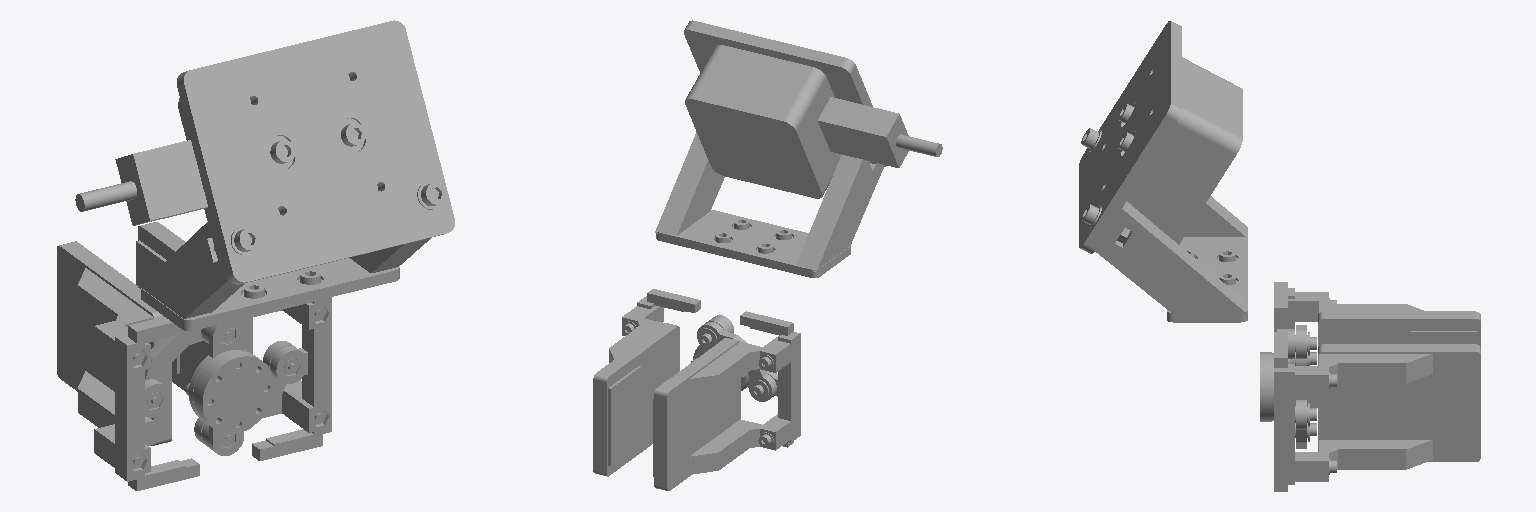
robot.urdf — low_cost_robot_d405_low_profile:
<?xml version='1.0' encoding='utf-8'?>
<robot name="low_cost_robot_d405_low_profile">
  <!--Geometric model; mass, inertia and actuator ratings are not inferred from STEP.-->
  <link name="base_link">
    <visual>
      <origin xyz="0 0 0" rpy="0 0 0" />
      <geometry>
        <mesh filename="assets/base_link.stl" />
      </geometry>
      <material name="base_link_material">
        <color rgba="0.69999999999999996 0.69999999999999996 0.69999999999999996 1" />
      </material>
    </visual>
    <collision>
      <origin xyz="0 0 0" rpy="0 0 0" />
      <geometry>
        <mesh filename="assets/base_link.stl" />
      </geometry>
    </collision>
  </link>
  <link name="shoulder_yaw">
    <visual>
      <origin xyz="0 0 -0.02" rpy="0 0 0" />
      <geometry>
        <mesh filename="assets/shoulder_yaw.stl" />
      </geometry>
      <material name="shoulder_yaw_material">
        <color rgba="0.69999999999999996 0.69999999999999996 0.69999999999999996 1" />
      </material>
    </visual>
    <collision>
      <origin xyz="0 0 -0.02" rpy="0 0 0" />
      <geometry>
        <mesh filename="assets/shoulder_yaw.stl" />
      </geometry>
    </collision>
  </link>
  <link name="upper_arm">
    <visual>
      <origin xyz="0.00020000000000000001 0 -0.056299999999999996" rpy="0 0 0" />
      <geometry>
        <mesh filename="assets/upper_arm.stl" />
      </geometry>
      <material name="upper_arm_material">
        <color rgba="0.69999999999999996 0.69999999999999996 0.69999999999999996 1" />
      </material>
    </visual>
    <collision>
      <origin xyz="0.00020000000000000001 0 -0.056299999999999996" rpy="0 0 0" />
      <geometry>
        <mesh filename="assets/upper_arm.stl" />
      </geometry>
    </collision>
  </link>
  <link name="forearm">
    <visual>
      <origin xyz="0.00020000000000000001 -0.014800000000000001 -0.1646" rpy="0 0 0" />
      <geometry>
        <mesh filename="assets/forearm.stl" />
      </geometry>
      <material name="forearm_material">
        <color rgba="0.69999999999999996 0.69999999999999996 0.69999999999999996 1" />
      </material>
    </visual>
    <collision>
      <origin xyz="0.00020000000000000001 -0.014800000000000001 -0.1646" rpy="0 0 0" />
      <geometry>
        <mesh filename="assets/forearm.stl" />
      </geometry>
    </collision>
  </link>
  <link name="wrist">
    <visual>
      <origin xyz="0.00020000000000000001 -0.10490000000000001 -0.1646" rpy="0 0 0" />
      <geometry>
        <mesh filename="assets/wrist.stl" />
      </geometry>
      <material name="wrist_material">
        <color rgba="0.69999999999999996 0.69999999999999996 0.69999999999999996 1" />
      </material>
    </visual>
    <collision>
      <origin xyz="0.00020000000000000001 -0.10490000000000001 -0.1646" rpy="0 0 0" />
      <geometry>
        <mesh filename="assets/wrist.stl" />
      </geometry>
    </collision>
  </link>
  <link name="gripper_crank">
    <visual>
      <origin xyz="0.00020000000000000001 -0.16490000000000002 -0.1646" rpy="0 0 0" />
      <geometry>
        <mesh filename="assets/gripper_crank.stl" />
      </geometry>
      <material name="gripper_crank_material">
        <color rgba="0.69999999999999996 0.69999999999999996 0.69999999999999996 1" />
      </material>
    </visual>
    <collision>
      <origin xyz="0.00020000000000000001 -0.16490000000000002 -0.1646" rpy="0 0 0" />
      <geometry>
        <mesh filename="assets/gripper_crank.stl" />
      </geometry>
    </collision>
  </link>
  <link name="jaw_l">
    <visual>
      <origin xyz="0.00020000000000000001 -0.16490000000000002 -0.1646" rpy="0 0 0" />
      <geometry>
        <mesh filename="assets/jaw_l.stl" />
      </geometry>
      <material name="jaw_l_material">
        <color rgba="0.69999999999999996 0.69999999999999996 0.69999999999999996 1" />
      </material>
    </visual>
    <collision>
      <origin xyz="0.00020000000000000001 -0.16490000000000002 -0.1646" rpy="0 0 0" />
      <geometry>
        <mesh filename="assets/jaw_l.stl" />
      </geometry>
    </collision>
  </link>
  <link name="jaw_r">
    <visual>
      <origin xyz="0.00020000000000000001 -0.16490000000000002 -0.1646" rpy="0 0 0" />
      <geometry>
        <mesh filename="assets/jaw_r.stl" />
      </geometry>
      <material name="jaw_r_material">
        <color rgba="0.69999999999999996 0.69999999999999996 0.69999999999999996 1" />
      </material>
    </visual>
    <collision>
      <origin xyz="0.00020000000000000001 -0.16490000000000002 -0.1646" rpy="0 0 0" />
      <geometry>
        <mesh filename="assets/jaw_r.stl" />
      </geometry>
    </collision>
  </link>
  <link name="coupler_l">
    <visual>
      <origin xyz="0.00020000000000000001 -0.16490000000000002 -0.17859999999999998" rpy="0 0 0" />
      <geometry>
        <mesh filename="assets/coupler_l.stl" />
      </geometry>
      <material name="coupler_l_material">
        <color rgba="0.69999999999999996 0.69999999999999996 0.69999999999999996 1" />
      </material>
    </visual>
    <collision>
      <origin xyz="0.00020000000000000001 -0.16490000000000002 -0.17859999999999998" rpy="0 0 0" />
      <geometry>
        <mesh filename="assets/coupler_l.stl" />
      </geometry>
    </collision>
  </link>
  <link name="coupler_r">
    <visual>
      <origin xyz="0.00020000000000000001 -0.16490000000000002 -0.15059999999999998" rpy="0 0 0" />
      <geometry>
        <mesh filename="assets/coupler_r.stl" />
      </geometry>
      <material name="coupler_r_material">
        <color rgba="0.69999999999999996 0.69999999999999996 0.69999999999999996 1" />
      </material>
    </visual>
    <collision>
      <origin xyz="0.00020000000000000001 -0.16490000000000002 -0.15059999999999998" rpy="0 0 0" />
      <geometry>
        <mesh filename="assets/coupler_r.stl" />
      </geometry>
    </collision>
  </link>
  <link name="camera_mount">
    <visual>
      <origin xyz="0.00020000000000000001 -0.16490000000000002 -0.19985" rpy="0 0 0" />
      <geometry>
        <mesh filename="assets/camera_mount.stl" />
      </geometry>
      <material name="camera_mount_material">
        <color rgba="0.69999999999999996 0.69999999999999996 0.69999999999999996 1" />
      </material>
    </visual>
    <collision>
      <origin xyz="0.00020000000000000001 -0.16490000000000002 -0.19985" rpy="0 0 0" />
      <geometry>
        <mesh filename="assets/camera_mount.stl" />
      </geometry>
    </collision>
  </link>
  <link name="camera_body">
    <visual>
      <origin xyz="0.00020000000000000001 -0.16500000000000001 -0.23499999999999999" rpy="0 0 0" />
      <geometry>
        <mesh filename="assets/camera_body.stl" />
      </geometry>
      <material name="camera_body_material">
        <color rgba="0.69999999999999996 0.69999999999999996 0.69999999999999996 1" />
      </material>
    </visual>
    <collision>
      <origin xyz="0.00020000000000000001 -0.16500000000000001 -0.23499999999999999" rpy="0 0 0" />
      <geometry>
        <mesh filename="assets/camera_body.stl" />
      </geometry>
    </collision>
  </link>
  <link name="closing_left_1" />
  <link name="closing_left_2" />
  <link name="closing_right_1" />
  <link name="closing_right_2" />
  <joint name="joint1_yaw" type="revolute">
    <parent link="base_link" />
    <child link="shoulder_yaw" />
    <origin xyz="0 0 0.02" rpy="0 0 0" />
    <axis xyz="-0 -0 -1" />
    <limit lower="-3.1415926535897931" upper="3.1415926535897931" effort="0" velocity="0" />
  </joint>
  <joint name="joint2_shoulder" type="revolute">
    <parent link="shoulder_yaw" />
    <child link="upper_arm" />
    <origin xyz="-0.00020000000000000001 0 0.036299999999999999" rpy="0 0 0" />
    <axis xyz="1 -0 -2.2204460492503131e-16" />
    <limit lower="-3.1415926535897931" upper="3.1415926535897931" effort="0" velocity="0" />
  </joint>
  <joint name="joint3_elbow" type="revolute">
    <parent link="upper_arm" />
    <child link="forearm" />
    <origin xyz="0 0.014800000000000001 0.10830000000000001" rpy="0 0 0" />
    <axis xyz="-1 -0 -2.2204460492503131e-16" />
    <limit lower="-3.1415926535897931" upper="3.1415926535897931" effort="0" velocity="0" />
  </joint>
  <joint name="joint4_wrist" type="revolute">
    <parent link="forearm" />
    <child link="wrist" />
    <origin xyz="0 0.090100000000000013 0" rpy="0 0 0" />
    <axis xyz="-1 -0 -2.2204460492503131e-16" />
    <limit lower="-1.7802358370342162" upper="2.1642082724729685" effort="0" velocity="0" />
  </joint>
  <joint name="gripper_drive" type="revolute">
    <parent link="wrist" />
    <child link="gripper_crank" />
    <origin xyz="0 0.060000000000000012 0" rpy="0 0 0" />
    <axis xyz="-0 -1 -2.2204460492503131e-16" />
    <limit lower="-0.78539816339744828" upper="1.1344640137963142" effort="0" velocity="0" />
  </joint>
  <joint name="jaw_left" type="prismatic">
    <parent link="wrist" />
    <child link="jaw_l" />
    <origin xyz="0 0.060000000000000012 0" rpy="0 0 0" />
    <axis xyz="-1 -0 -2.2204460492503131e-16" />
    <limit lower="-0.0075298725171541432" upper="0.016453980543899453" effort="0" velocity="0" />
  </joint>
  <joint name="jaw_right" type="prismatic">
    <parent link="wrist" />
    <child link="jaw_r" />
    <origin xyz="0 0.060000000000000012 0" rpy="0 0 0" />
    <axis xyz="-1 -0 -2.2204460492503131e-16" />
    <limit lower="-0.016453980543899453" upper="0.0075298725171541432" effort="0" velocity="0" />
  </joint>
  <joint name="coupler_left" type="revolute">
    <parent link="gripper_crank" />
    <child link="coupler_l" />
    <origin xyz="0 0 0.013999999999999985" rpy="0 0 0" />
    <axis xyz="-0 -1 -2.2204460492503131e-16" />
    <limit lower="-3.1415926535897931" upper="3.1415926535897931" effort="0" velocity="0" />
  </joint>
  <joint name="coupler_right" type="revolute">
    <parent link="gripper_crank" />
    <child link="coupler_r" />
    <origin xyz="0 0 -0.014000000000000012" rpy="0 0 0" />
    <axis xyz="-0 -1 -2.2204460492503131e-16" />
    <limit lower="-3.1415926535897931" upper="3.1415926535897931" effort="0" velocity="0" />
  </joint>
  <joint name="camera_mount_fixed" type="fixed">
    <parent link="wrist" />
    <child link="camera_mount" />
    <origin xyz="0 0.060000000000000012 0.035250000000000004" rpy="0 0 0" />
  </joint>
  <joint name="camera_body_fixed" type="fixed">
    <parent link="camera_mount" />
    <child link="camera_body" />
    <origin xyz="0 9.9999999999988987e-05 0.035149999999999987" rpy="0 0 0" />
  </joint>
  <joint name="closing_left_1_fixed" type="fixed">
    <parent link="coupler_l" />
    <child link="closing_left_1" />
    <origin xyz="-0.019493588689617928 0.027999999999999997 -0.013999999999999985" rpy="0 0 0" />
  </joint>
  <joint name="closing_left_2_fixed" type="fixed">
    <parent link="jaw_l" />
    <child link="closing_left_2" />
    <origin xyz="-0.019493588689617928 0.027999999999999997 0" rpy="0 0 0" />
  </joint>
  <joint name="closing_right_1_fixed" type="fixed">
    <parent link="coupler_r" />
    <child link="closing_right_1" />
    <origin xyz="0.019493588689617924 0.027999999999999997 0.014000000000000012" rpy="0 0 0" />
  </joint>
  <joint name="closing_right_2_fixed" type="fixed">
    <parent link="jaw_r" />
    <child link="closing_right_2" />
    <origin xyz="0.019493588689617924 0.027999999999999997 0" rpy="0 0 0" />
  </joint>
</robot>

--- Render facts (derived) ---
3 views of the same robot in one strip: view 1: azimuth 30°, elevation 25°; view 2: azimuth 150°, elevation 25°; view 3: azimuth 270°, elevation 25° (orthographic).
Model low_cost_robot_d405_low_profile with 16 links and 15 joints (7 revolute, 2 prismatic, 6 fixed), rooted at base_link, posed every joint at zero.
Visible links, largest first — view 1: camera_mount, jaw_l, jaw_r, gripper_crank, camera_body, coupler_l, coupler_r; view 2: camera_body, camera_mount, jaw_l, jaw_r, coupler_l, gripper_crank; view 3: jaw_r, camera_mount, camera_body, jaw_l, gripper_crank, coupler_r.
Link boxes in pixels (x1,y1,x2,y2): camera_mount: [138, 20, 454, 330]; jaw_l: [57, 241, 199, 490]; jaw_r: [136, 222, 331, 460]; gripper_crank: [185, 320, 274, 455]; camera_body: [75, 75, 377, 225]; coupler_l: [145, 329, 203, 381]; coupler_r: [194, 341, 294, 443]; camera_body: [685, 45, 942, 198]; camera_mount: [655, 20, 886, 277]; jaw_l: [653, 311, 800, 490]; jaw_r: [593, 289, 700, 476]; coupler_l: [697, 322, 776, 401]; gripper_crank: [691, 315, 749, 390]; jaw_r: [1274, 332, 1480, 491]; camera_mount: [1079, 21, 1247, 322]; camera_body: [1127, 57, 1242, 244]; jaw_l: [1274, 282, 1480, 407]; gripper_crank: [1260, 329, 1316, 441]; coupler_r: [1296, 400, 1306, 448].
Bounding box of the posed robot: 0.0935 × 0.1185 × 0.1273 m (x, y, z).
Meshes: 12 distinct files referenced, 7 mesh visuals loaded (7 binary STL); not drawn: 5 (reference not matched to a file when rendering).
